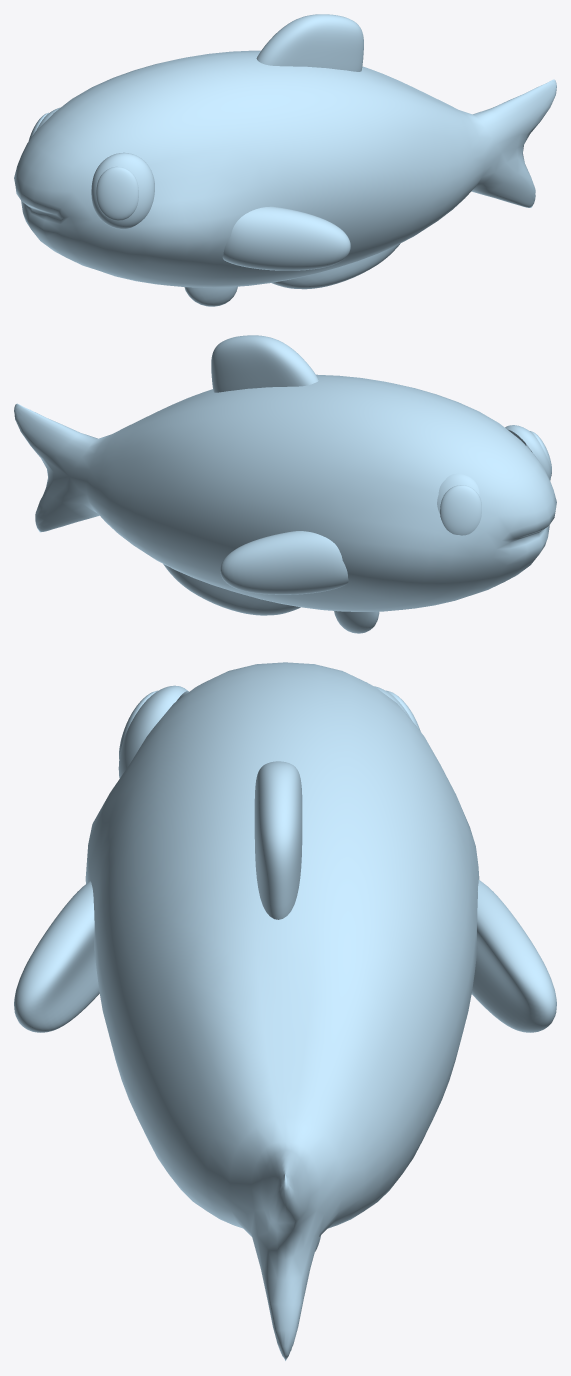
File: CrystalFish.fbx
3 views of the same model, one above another, from view 1: azimuth 30°, elevation 25°; view 2: azimuth 150°, elevation 25°; view 3: azimuth 270°, elevation 25° (orthographic). The views are drawn at different scales.
Parts seen in each view (by area): view 1: fish bubble-col; view 2: fish bubble-col; view 3: fish bubble-col.
Boxes of the visible parts, x1,y1,x2,y2 form: fish bubble-col: (14, 14, 556, 306); fish bubble-col: (14, 335, 556, 633); fish bubble-col: (14, 662, 556, 1360).
Bounding box in the file's own units: 326 × 160 × 172.
